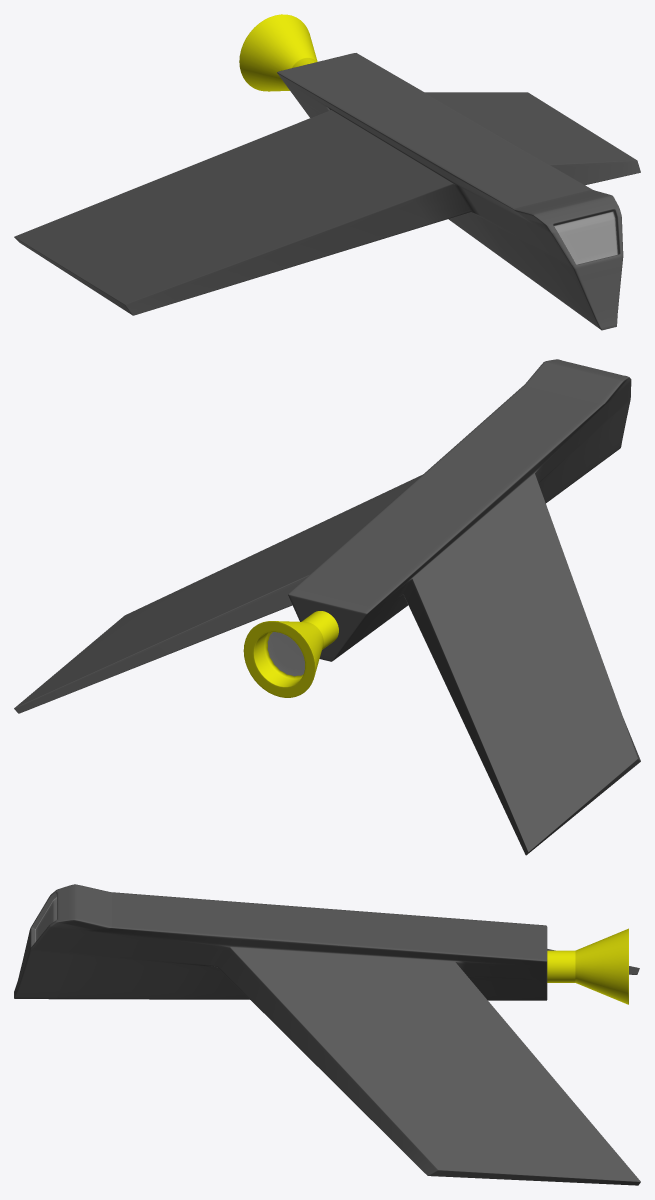
The model's file is ScenicDebris03.fbx.
3 renders of one model, top to bottom at view 1: azimuth 30°, elevation 25°; view 2: azimuth 150°, elevation 25°; view 3: azimuth 270°, elevation 25°, orthographic. The views are drawn at different scales.
Visible parts, largest first — view 1: pCylinder3; view 2: pCylinder3; view 3: pCylinder3.
Boxes of the visible parts, x1,y1,x2,y2 form: pCylinder3: [14, 14, 640, 330]; pCylinder3: [14, 359, 640, 855]; pCylinder3: [14, 884, 640, 1185].
Bounding box in the file's own units: 33.4 × 12.43 × 38.32.
